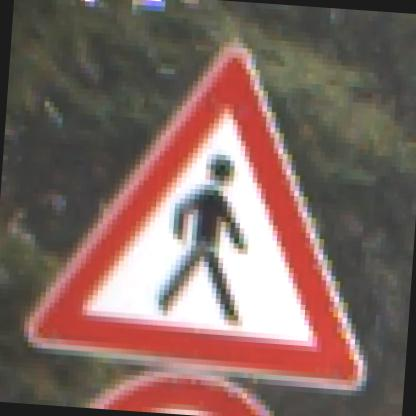crosswalk: (22, 51, 368, 396)
